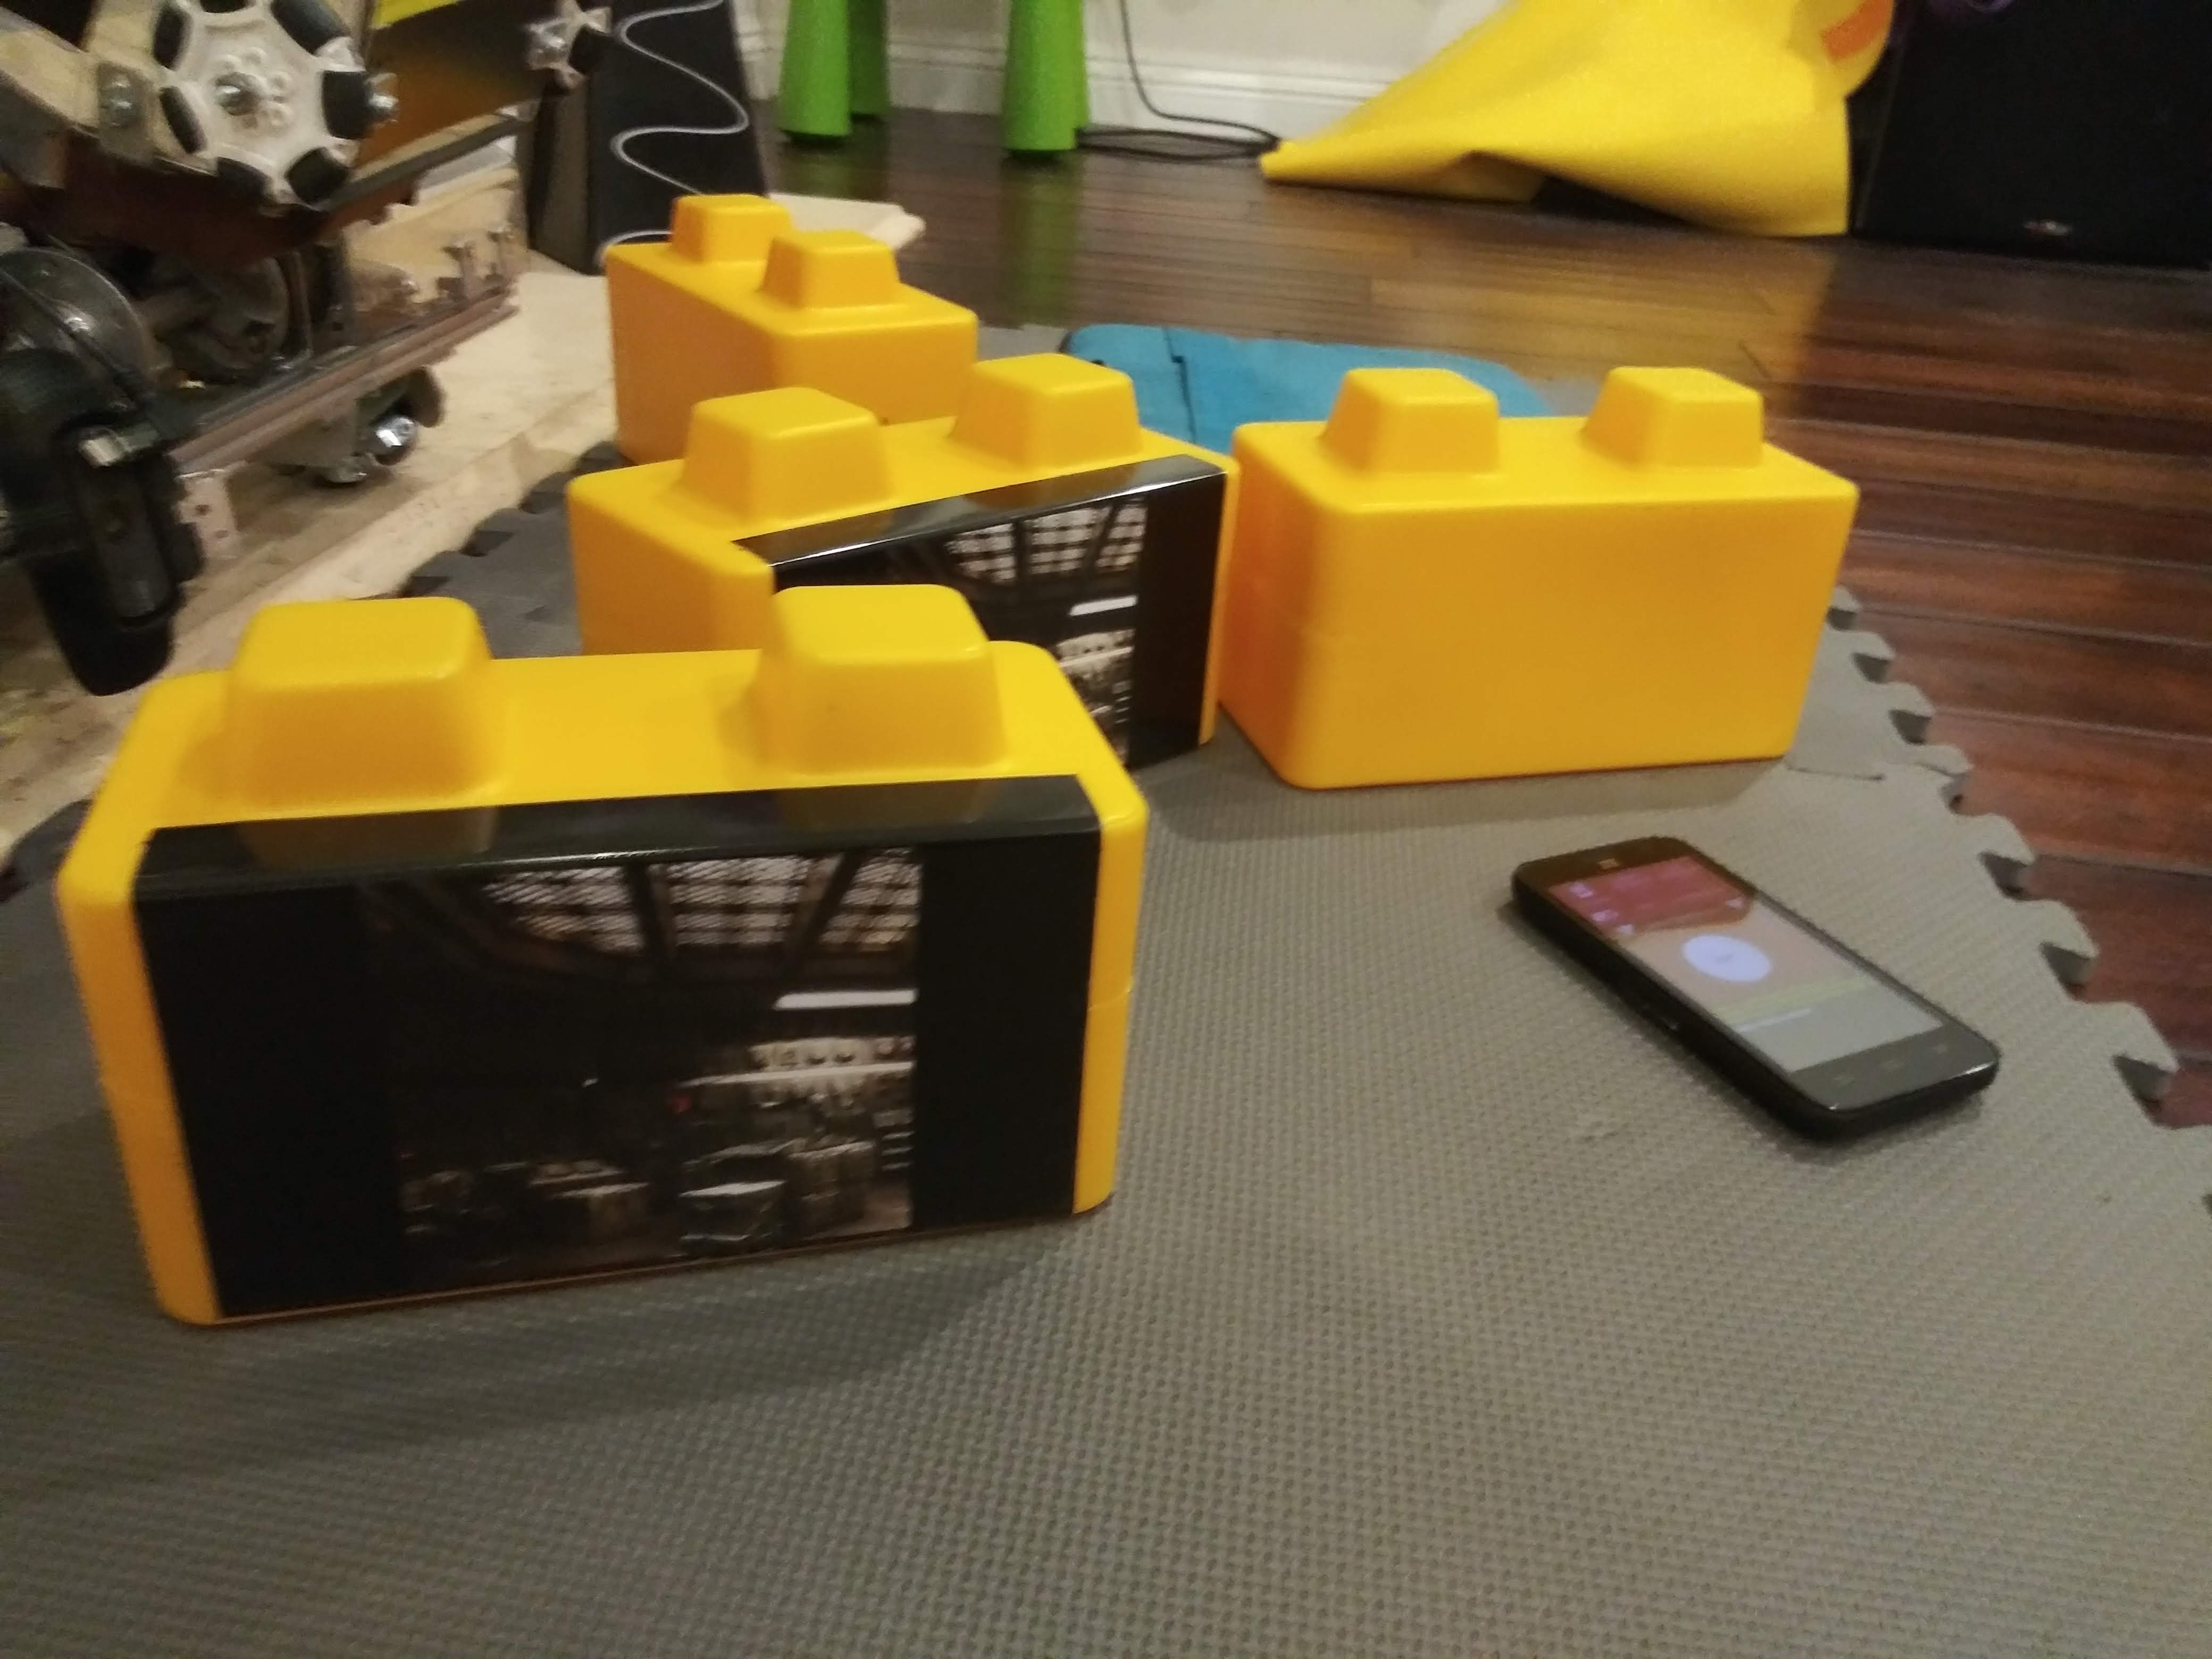skystone: (117, 723, 1134, 1286), (632, 427, 1184, 708)
stone: (1275, 422, 1817, 796), (597, 209, 939, 389)
